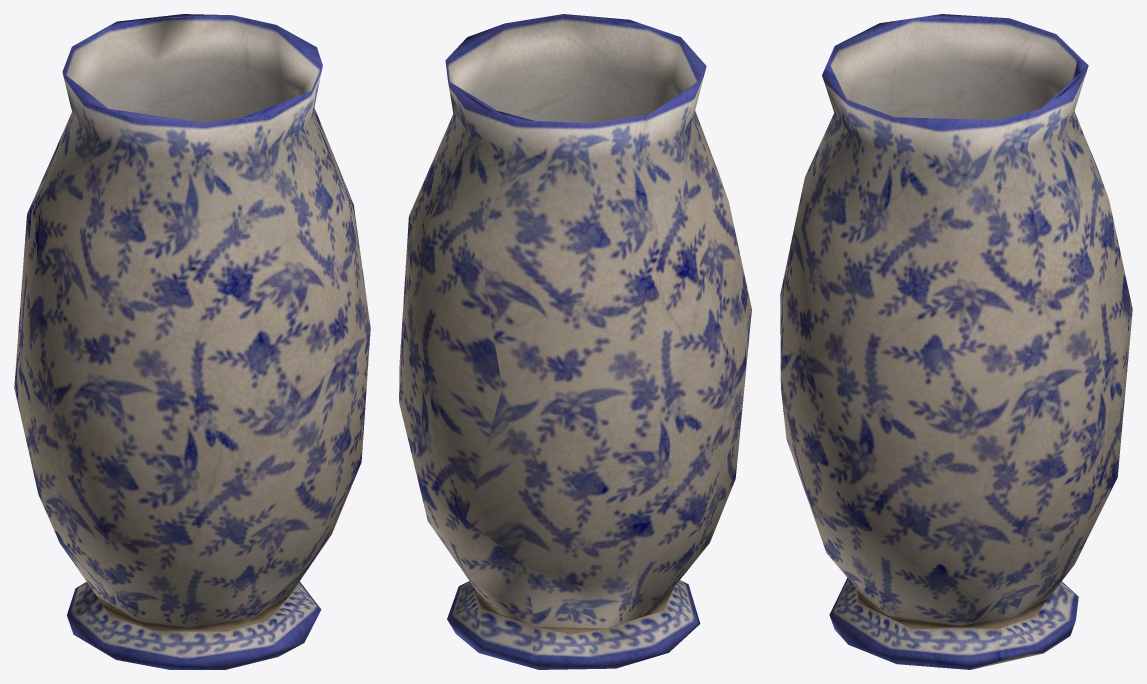
The model's file is antique_ceramic_vase_col.fbx.
3 renders of one model, left to right at view 1: azimuth 30°, elevation 25°; view 2: azimuth 150°, elevation 25°; view 3: azimuth 270°, elevation 25°, orthographic.
Visible parts, largest first — view 1: antique_ceramic_vase_01; view 2: antique_ceramic_vase_01; view 3: antique_ceramic_vase_01.
Boxes of the visible parts, x1,y1,x2,y2 form: antique_ceramic_vase_01: (14, 14, 370, 669); antique_ceramic_vase_01: (399, 14, 751, 669); antique_ceramic_vase_01: (780, 14, 1132, 669).
Bounding box in the file's own units: 25.42 × 44.13 × 25.64.
